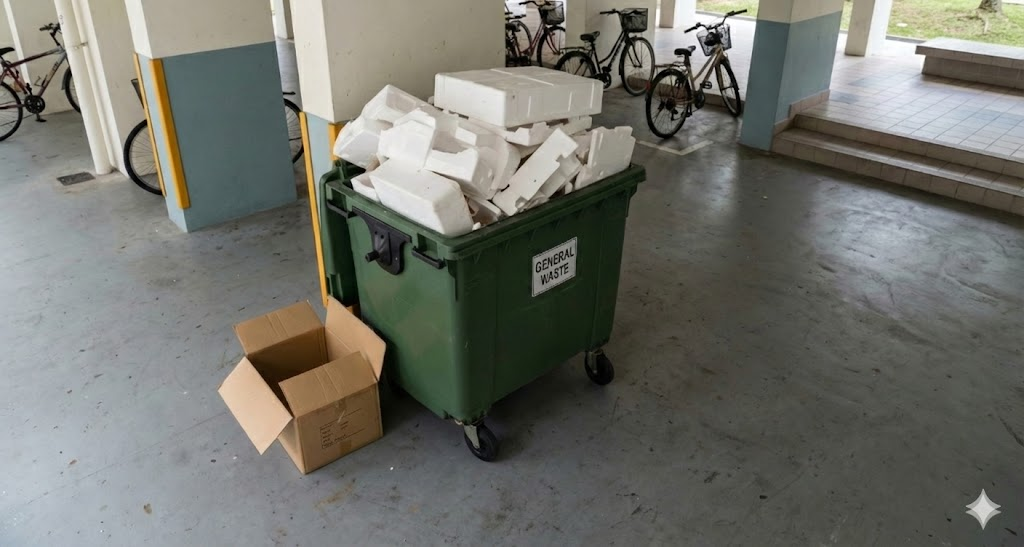bin_full: (318, 85, 645, 460)
bulk_waste: (218, 297, 385, 473), (435, 67, 602, 127)
vehicle: (648, 10, 746, 137), (555, 8, 653, 94), (506, 0, 564, 66)
